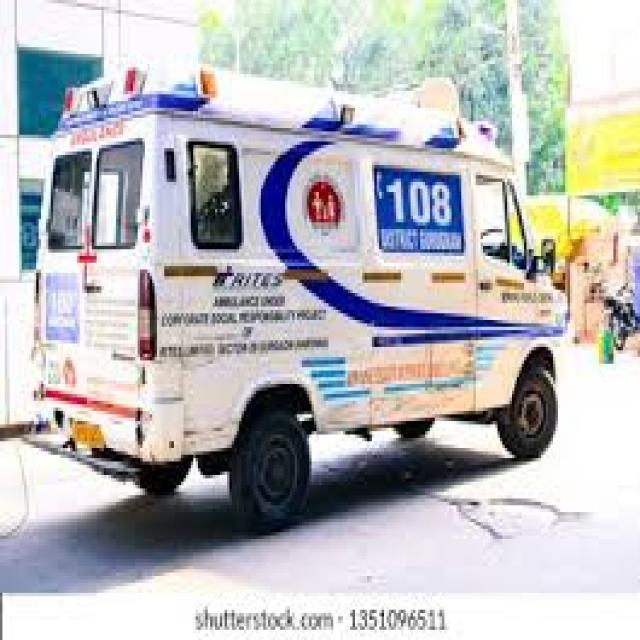Ambulance: (25, 67, 572, 509)
